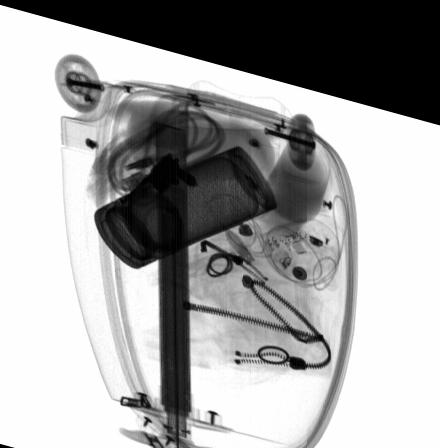Gun: (121, 143, 199, 198)
